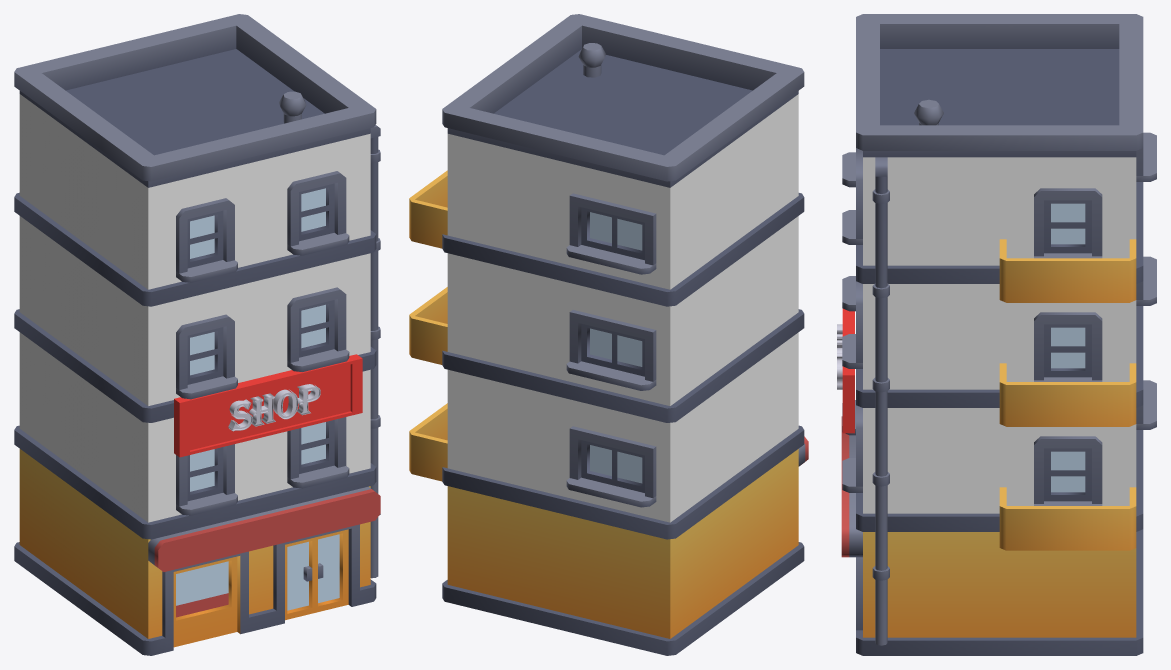
File: shop_level2.glb
3 renders of one model, left to right at view 1: azimuth 30°, elevation 25°; view 2: azimuth 150°, elevation 25°; view 3: azimuth 270°, elevation 25°, orthographic. The views are drawn at different scales.
Parts seen in each view (by area): view 1: building-g, 立方体, 文本; view 2: building-g; view 3: building-g, 立方体.
Boxes of the visible parts, x1,y1,x2,y2 form: building-g: (14, 14, 380, 655); 立方体: (174, 354, 362, 457); 文本: (228, 384, 320, 431); building-g: (409, 14, 808, 655); building-g: (841, 14, 1156, 655); 立方体: (842, 308, 854, 433).
Bounding box in the file's own units: 0.97 × 1.69 × 0.9358.
Materials: 3 (1 with a texture image).
